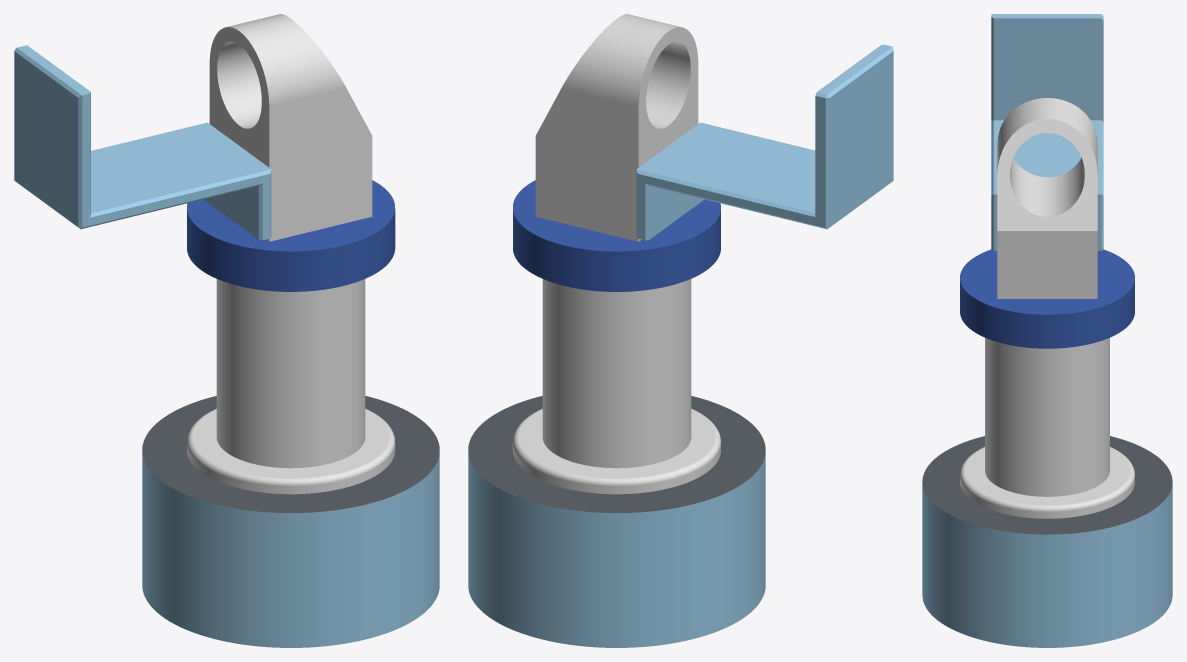
File: gimbal_base.dae
3 renders of one model, left to right at view 1: azimuth 30°, elevation 25°; view 2: azimuth 150°, elevation 25°; view 3: azimuth 270°, elevation 25°, orthographic. The views are drawn at different scales.
Parts seen in each view (by area): view 1: ID2; view 2: ID2; view 3: ID2.
Boxes of the visible parts, x1,y1,x2,y2 form: ID2: (14, 14, 439, 647); ID2: (468, 14, 893, 647); ID2: (922, 14, 1172, 647).
Size of the model in its own units: 0.145 by 0.1 by 0.2125.
